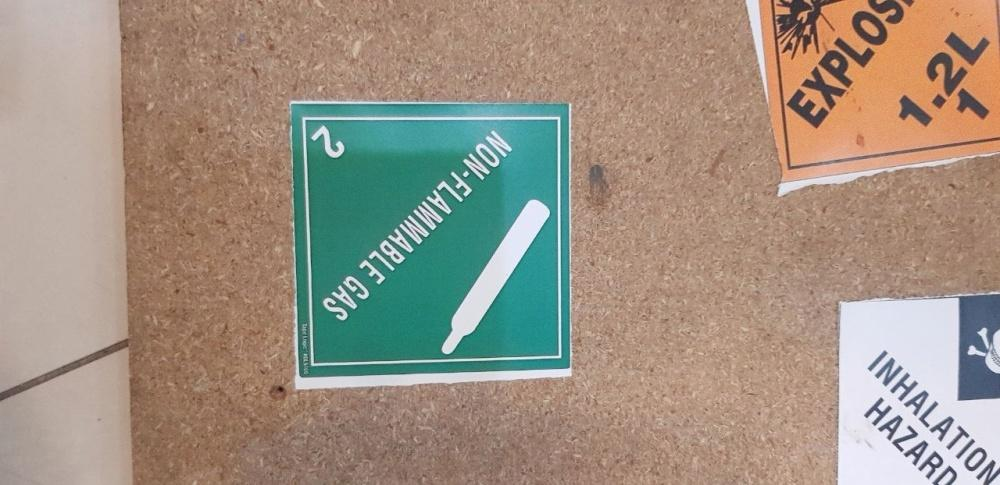explosive: (770, 1, 996, 182)
non-flammable-gas: (287, 100, 571, 389)
poison: (833, 297, 999, 483)
